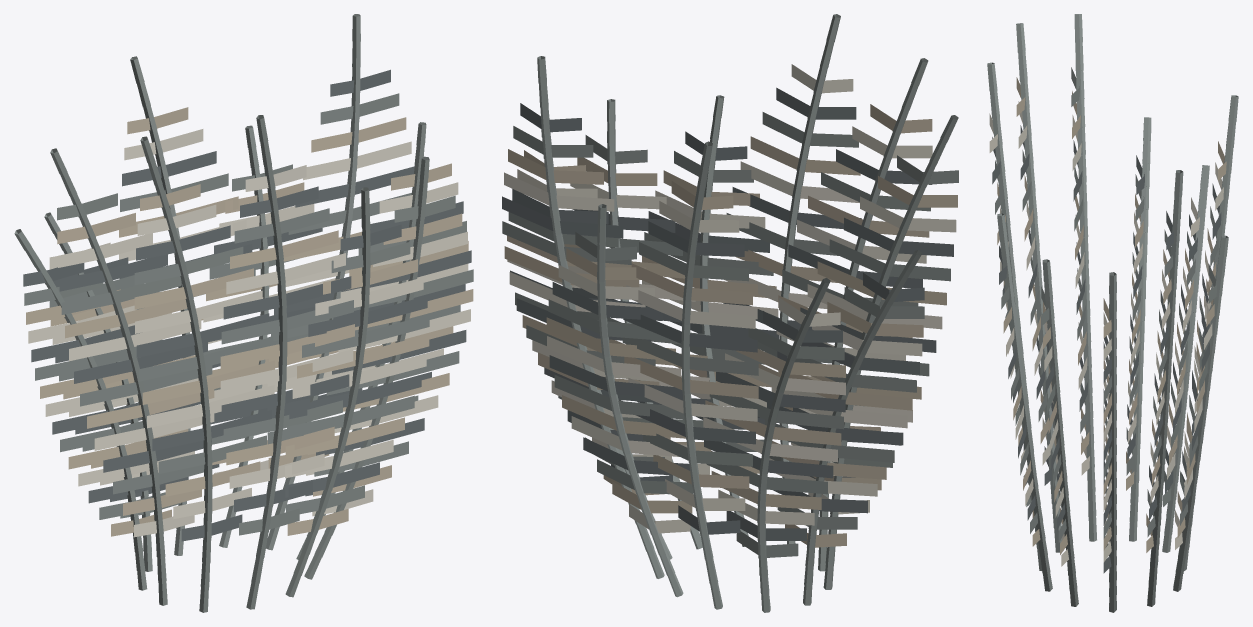
Rendered from feathers.glb.
3 renders of one model, left to right at view 1: azimuth 30°, elevation 25°; view 2: azimuth 150°, elevation 25°; view 3: azimuth 270°, elevation 25°, orthographic. The views are drawn at different scales.
Parts seen in each view (by area): view 1: feathers; view 2: feathers; view 3: feathers.
Boxes of the visible parts, x1,y1,x2,y2 form: feathers: (14,14,473,612); feathers: (502,14,958,612); feathers: (987,14,1238,612).
Bounding box in the file's own units: 1.09 × 1.25 × 0.571.
